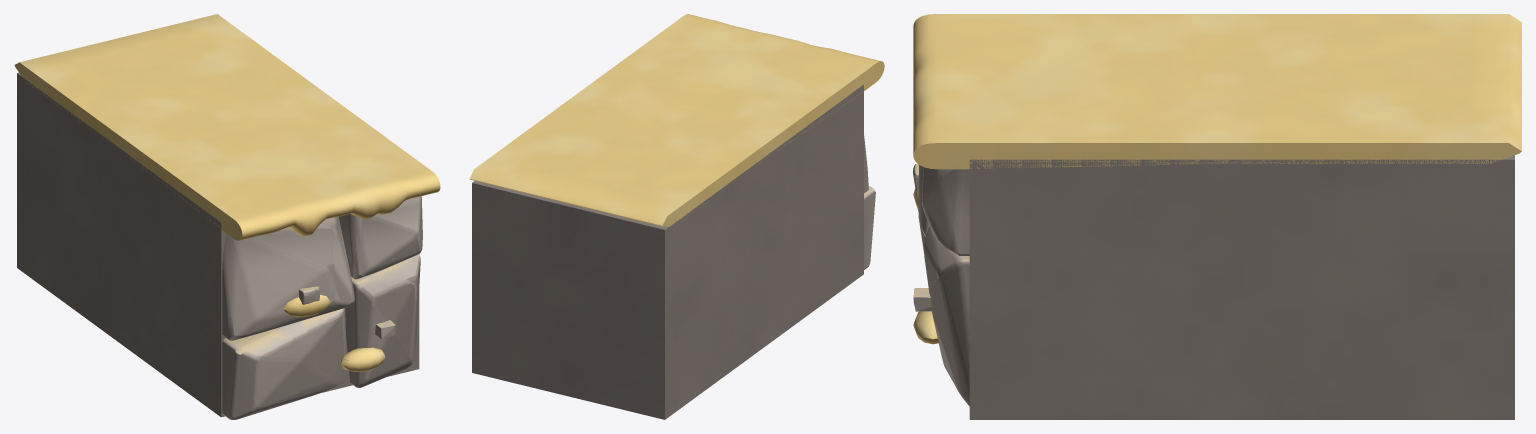
The model's file is CC_T01_SandCliffCore_V2.fbx.
3 renders of one model, left to right at view 1: azimuth 30°, elevation 25°; view 2: azimuth 150°, elevation 25°; view 3: azimuth 270°, elevation 25°, orthographic. The views are drawn at different scales.
Parts seen in each view (by area): view 1: Rock, SandCap; view 2: Rock, SandCap; view 3: Rock, SandCap.
Boxes of the visible parts, x1,y1,x2,y2 form: Rock: (17, 72, 422, 419); SandCap: (14, 14, 440, 371); Rock: (472, 84, 875, 419); SandCap: (469, 14, 884, 226); Rock: (913, 155, 1514, 419); SandCap: (913, 14, 1521, 344).
Bounding box in the file's own units: 2 × 2.01 × 3.99.
